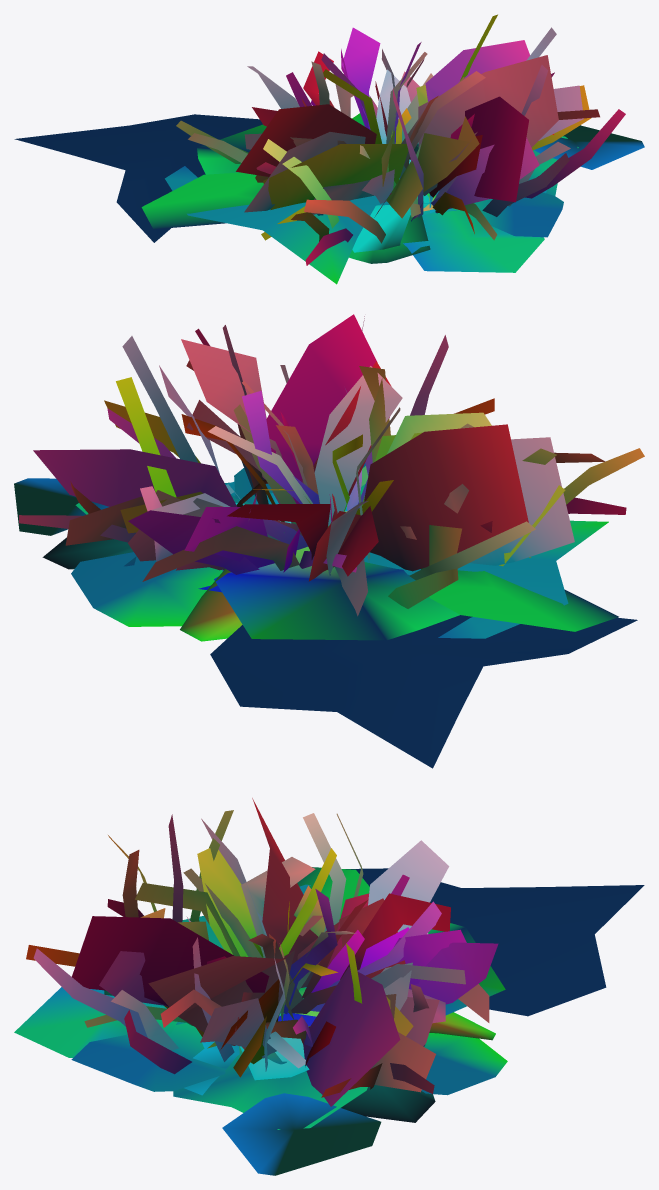
File: Wild_Grass_vdilbaiia_Mid_vdilbaiia_VarF_LOD1.fbx
The picture shows the model from 3 angles, top to bottom: view 1: azimuth 30°, elevation 25°; view 2: azimuth 150°, elevation 25°; view 3: azimuth 270°, elevation 25°; orthographic projection. The views are drawn at different scales.
Parts seen in each view (by area): view 1: _x82n_VarF_LOD2; view 2: _x82n_VarF_LOD2; view 3: _x82n_VarF_LOD2.
Boxes of the visible parts, <box> form: _x82n_VarF_LOD2: <box>14,14,644,284</box>; _x82n_VarF_LOD2: <box>14,314,644,768</box>; _x82n_VarF_LOD2: <box>14,798,644,1175</box>.
Bounding box in the file's own units: 78.81 × 26.15 × 72.95.
